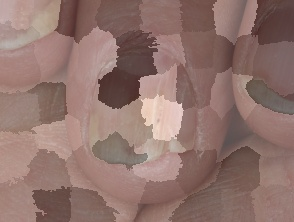Nail_psoriasis: (66, 62, 213, 191)
